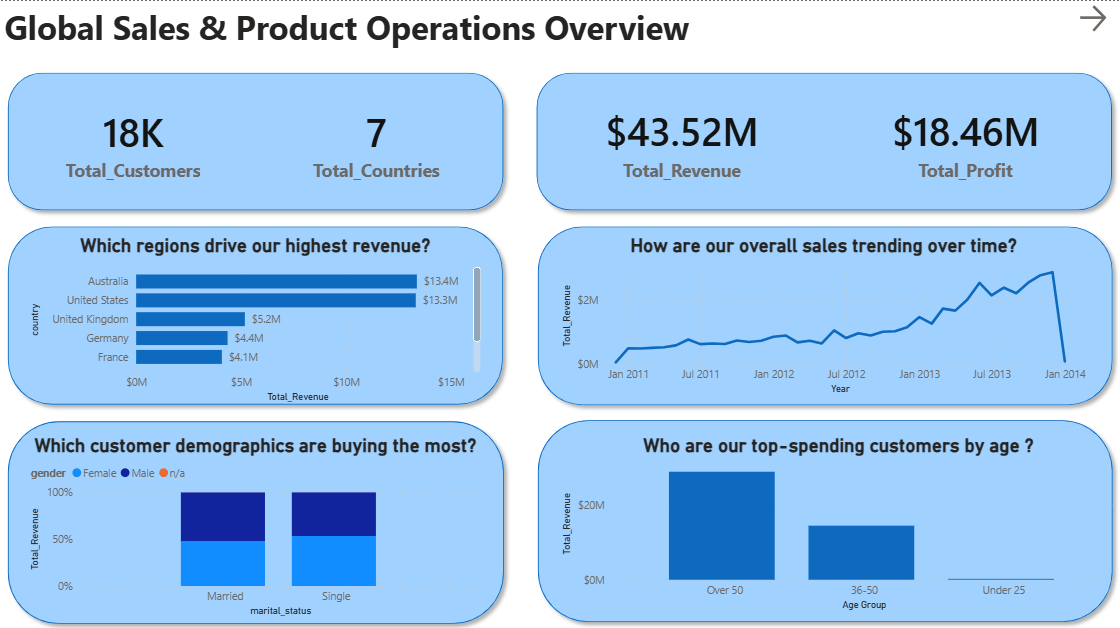

What the dashboard file says about the page in this screenshot:
{"tool":"powerbi","page":{"name":"Page 1","canvas":[1280,720],"ordinal":0},"visuals":[{"type":"shape","box":[0,73.5,584.4,175.3],"z":0,"group":"g1"},{"type":"group","id":"g1","title":"background","box":[0,73.5,1280,647.3],"z":0},{"type":"textbox","box":[0,0,811.5,74],"z":1000},{"type":"shape","box":[604.5,74,675.5,175.3],"z":1000,"group":"g1"},{"type":"cardVisual","title":"fbffb","fields":{"Data":["fact_sales.Total_Customers","fact_sales.Total_Countries"]},"box":[0,72.9,583.6,180.1],"z":2000},{"type":"shape","box":[0,248.6,583.6,221.8],"z":2000,"group":"g1"},{"type":"shape","box":[605.1,248.8,674.9,222.4],"z":3000,"group":"g1"},{"type":"lineChart","title":"How are our overall sales trending over time?","fields":{"Y":["fact_sales.Total_Revenue"],"Category":["fact_sales.order_date.Variation.Date Hierarchy.Year","fact_sales.order_date.Variation.Date Hierarchy.Month"]},"box":[637.7,267.5,609,187.4],"z":3000},{"type":"clusteredBarChart","title":"Which regions drive our highest revenue?","fields":{"Category":["dim_customers.country"],"Y":["fact_sales.Total_Revenue"]},"box":[30.2,267.5,524.4,196.5],"z":4000},{"type":"shape","box":[0,471.5,584.8,249.4],"z":4000,"group":"g1"},{"type":"shape","box":[605.1,471.3,674.9,248.8],"z":5000,"group":"g1"},{"type":"hundredPercentStackedColumnChart","title":"Which customer demographics are buying the most?","fields":{"Category":["dim_customers.marital_status"],"Series":["dim_customers.gender"],"Y":["fact_sales.Total_Revenue"]},"box":[30,495.7,524.3,212.9],"z":5000},{"type":"clusteredColumnChart","title":"Who are our top-spending customers by age ?","fields":{"Y":["fact_sales.Total_Revenue"],"Category":["dim_customers.Age Group"]},"box":[637.1,495.7,642.9,205.7],"z":6000},{"type":"cardVisual","fields":{"Data":["fact_sales.Total_Revenue","fact_sales.Total_Profit"]},"box":[604.5,74,675.5,176.8],"z":7000},{"type":"actionButton","box":[1228.6,0,51.4,40],"z":8000}]}

Visuals, with their boxes in screenshot pixels (x1, y1, x2, y2), scaled from the page's 1280x720 canvas onto the 1120x628 screenshot:
shape: (x1=0, y1=64, x2=511, y2=217)
"background" group: (x1=0, y1=64, x2=1119, y2=627)
textbox: (x1=0, y1=0, x2=710, y2=65)
shape: (x1=529, y1=65, x2=1119, y2=217)
"fbffb" cardVisual: (x1=0, y1=64, x2=511, y2=221)
shape: (x1=0, y1=217, x2=511, y2=410)
shape: (x1=529, y1=217, x2=1119, y2=411)
"How are our overall sales trending over time?" lineChart: (x1=558, y1=233, x2=1091, y2=397)
"Which regions drive our highest revenue?" clusteredBarChart: (x1=26, y1=233, x2=485, y2=405)
shape: (x1=0, y1=411, x2=512, y2=627)
shape: (x1=529, y1=411, x2=1119, y2=627)
"Which customer demographics are buying the most?" hundredPercentStackedColumnChart: (x1=26, y1=432, x2=485, y2=618)
"Who are our top-spending customers by age ?" clusteredColumnChart: (x1=557, y1=432, x2=1119, y2=612)
cardVisual - fact_sales.Total_Revenue x fact_sales.Total_Profit: (x1=529, y1=65, x2=1119, y2=219)
actionButton: (x1=1075, y1=0, x2=1119, y2=35)
